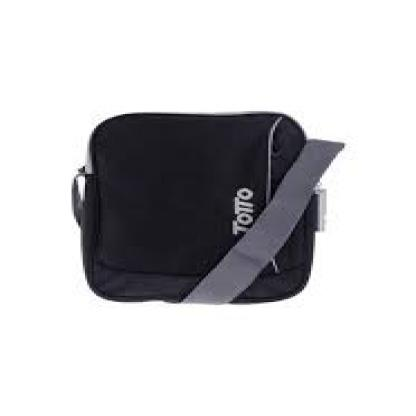morral: (56, 97, 353, 314)
